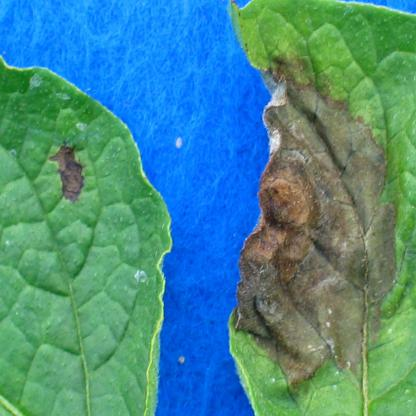potato leaf early blight: (220, 1, 416, 415), (0, 47, 172, 416)
